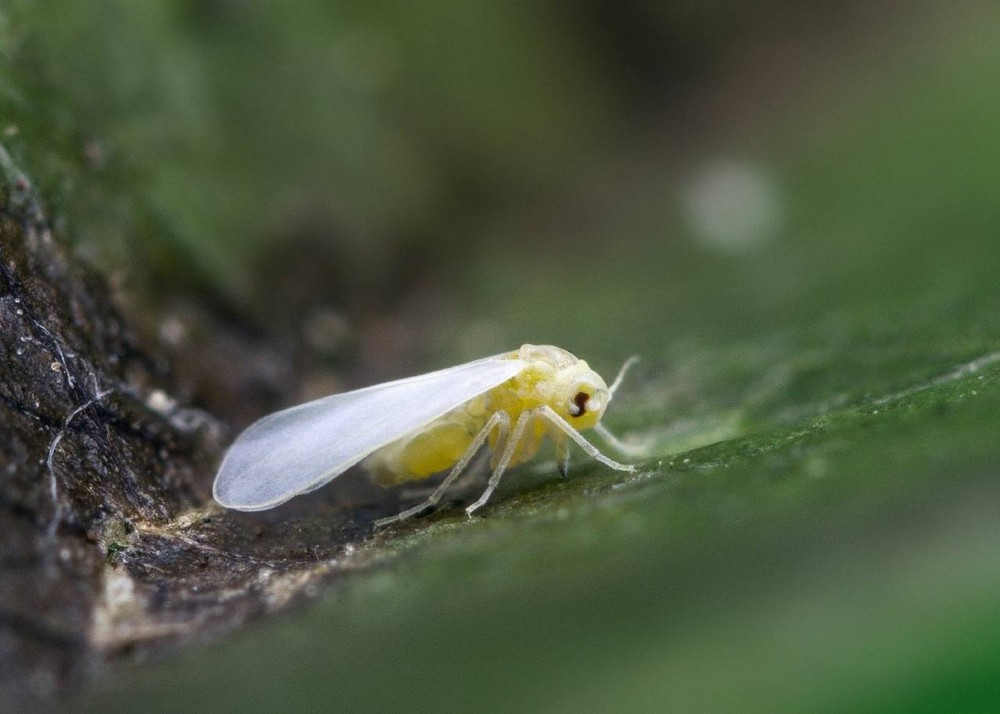Mosca Blanca: (198, 295, 683, 553)
